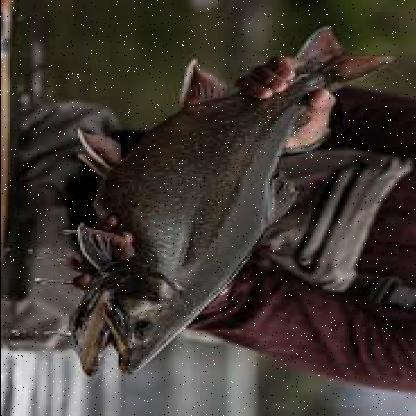fish: (68, 23, 390, 376)
